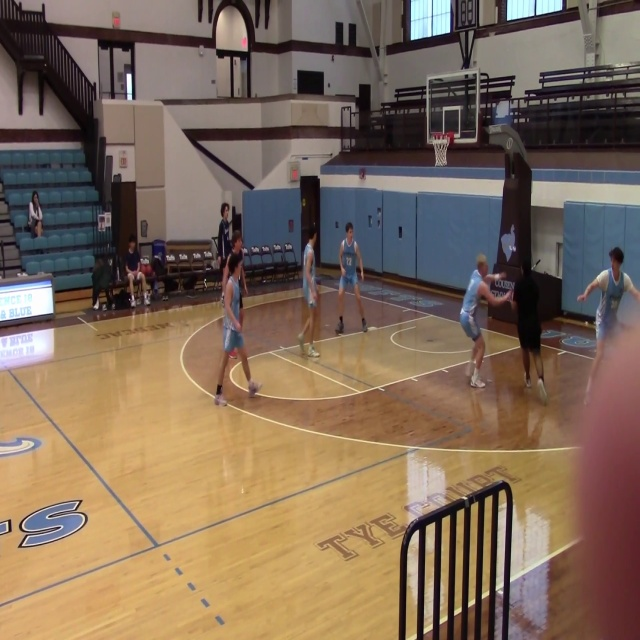Basketball: (228, 348, 238, 359)
